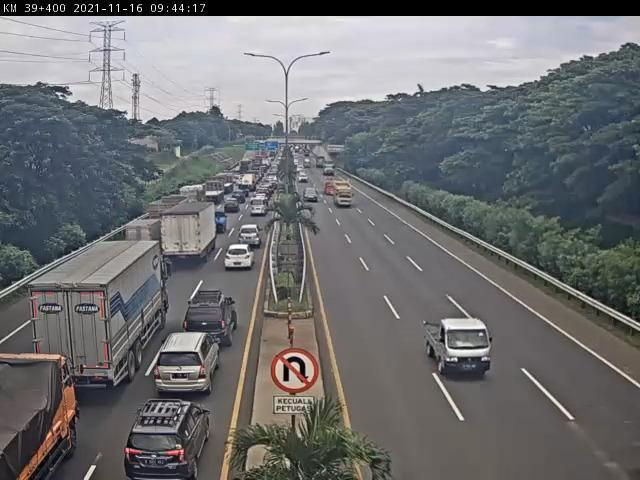car: (124, 401, 210, 480), (425, 319, 495, 381), (160, 330, 214, 392), (188, 292, 238, 338), (225, 242, 255, 269), (237, 224, 262, 248), (305, 184, 322, 206), (251, 198, 268, 216), (234, 190, 249, 205), (255, 188, 271, 200), (227, 199, 240, 213), (300, 172, 310, 184), (304, 159, 312, 169), (298, 165, 304, 173), (294, 160, 300, 167)
truck: (27, 239, 175, 387), (1, 352, 73, 480), (163, 198, 216, 265), (125, 218, 167, 264), (335, 180, 357, 211), (205, 182, 226, 205), (216, 175, 235, 192), (323, 162, 336, 177), (326, 178, 336, 197), (316, 157, 326, 167)
